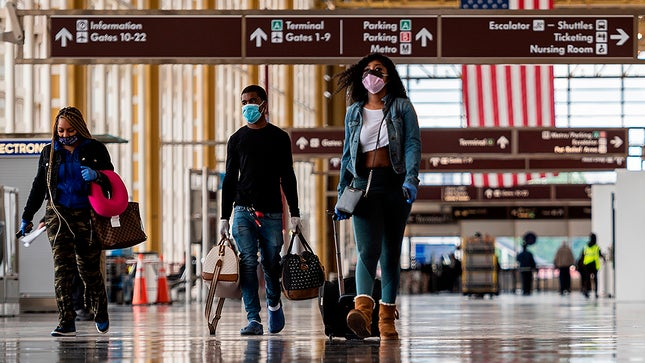with_incorrect_mask: (55, 118, 79, 145)
with_mask: (362, 61, 386, 95), (242, 92, 262, 123)
